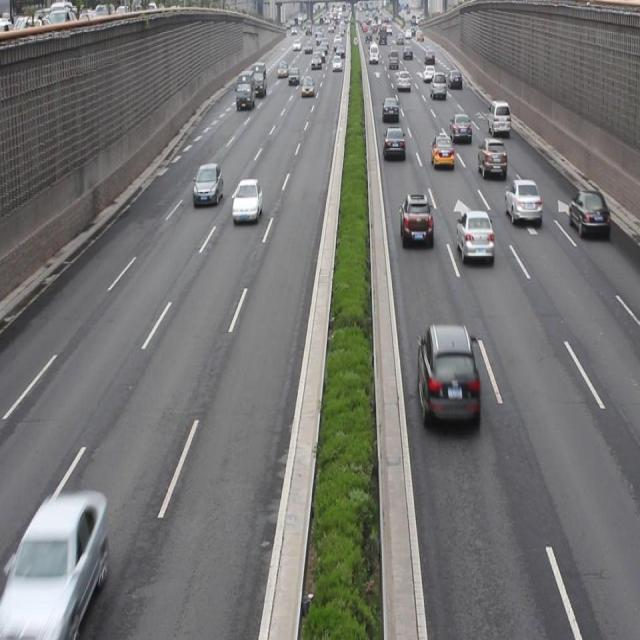car: (9, 489, 106, 640), (568, 188, 608, 239), (454, 208, 492, 260), (399, 192, 433, 244), (504, 180, 540, 223), (232, 176, 262, 222), (193, 162, 223, 204), (476, 137, 506, 179), (430, 132, 454, 170), (383, 126, 406, 160), (449, 112, 471, 142), (381, 95, 398, 122)
truck: (417, 323, 479, 426), (488, 99, 510, 136)
